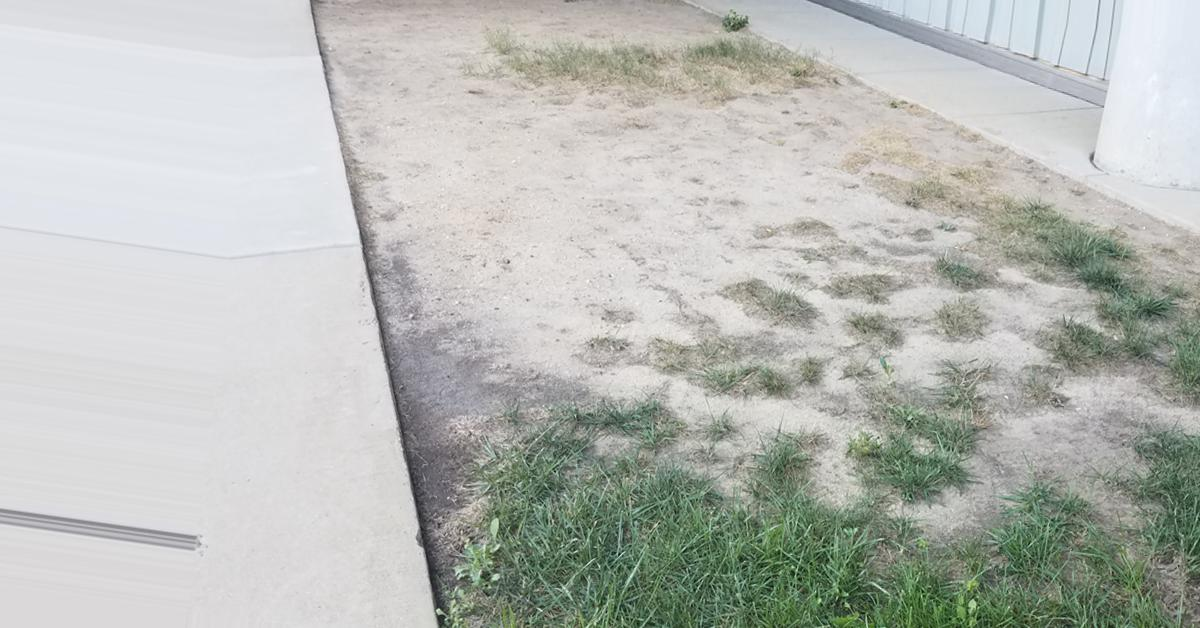patch: (403, 68, 835, 343), (859, 180, 1026, 315), (657, 355, 851, 452), (406, 1, 700, 64), (1001, 391, 1137, 484)
